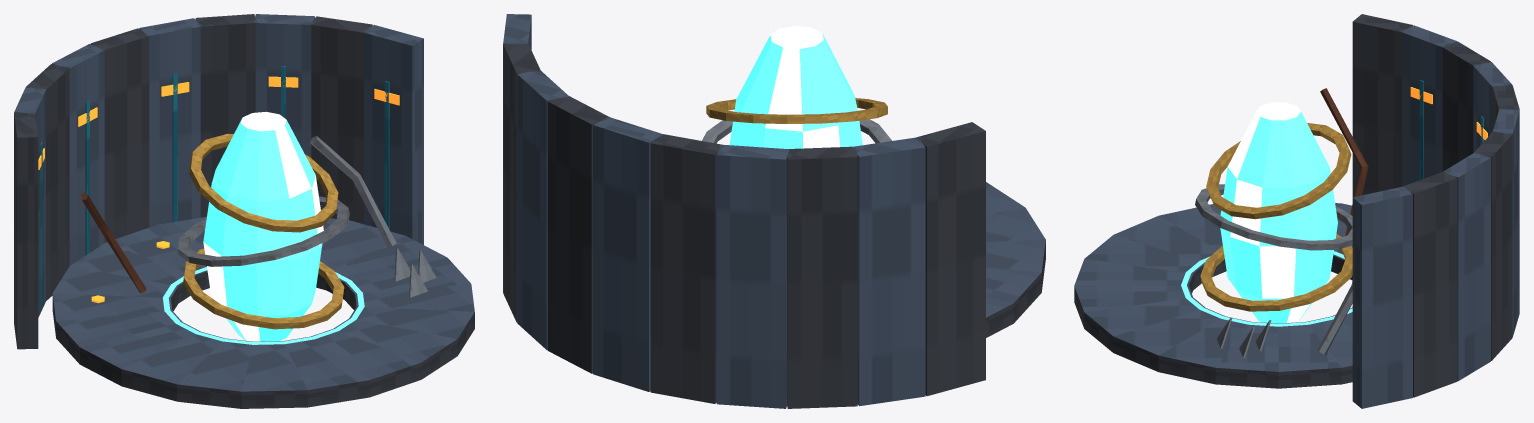
The model's file is SM_Env_LiftCoreChamber_HQ.glb.
3 renders of one model, left to right at view 1: azimuth 30°, elevation 25°; view 2: azimuth 150°, elevation 25°; view 3: azimuth 270°, elevation 25°, orthographic. The views are drawn at different scales.
Parts seen in each view (by area): view 1: SM_Env_LiftCoreChamber_HQ; view 2: SM_Env_LiftCoreChamber_HQ; view 3: SM_Env_LiftCoreChamber_HQ.
Part boxes in pixels (bbox=[...]): SM_Env_LiftCoreChamber_HQ: bbox=[14, 14, 474, 408]; SM_Env_LiftCoreChamber_HQ: bbox=[503, 14, 1045, 408]; SM_Env_LiftCoreChamber_HQ: bbox=[1074, 14, 1519, 408].
Bounding box in the file's own units: 22.12 × 11.1 × 21.78.
Materials: 1 (1 with a texture image).
